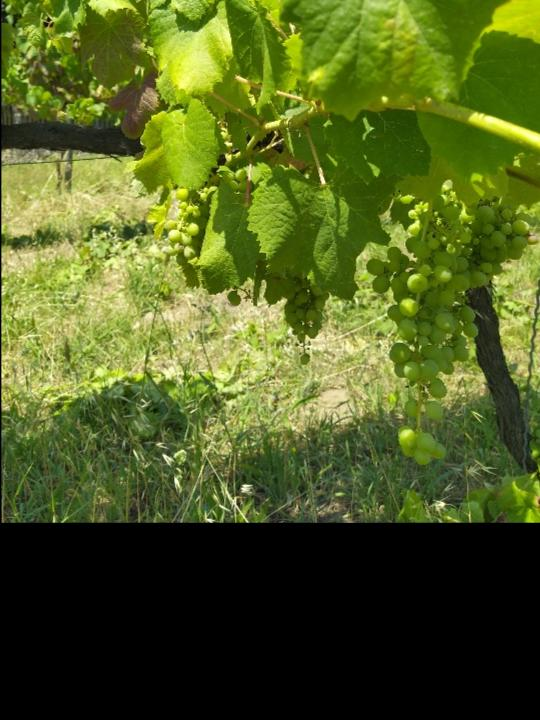grape: (358, 191, 533, 471)
